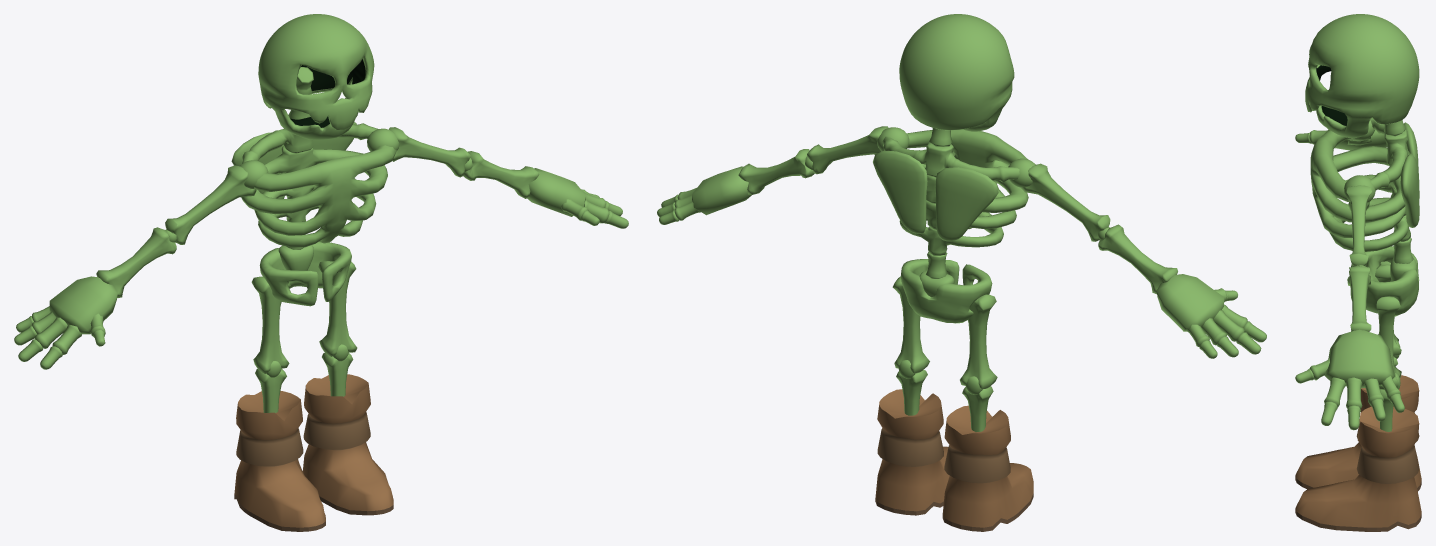
File: ENEMY 2 (final).fbx
The picture shows the model from 3 angles, left to right: view 1: azimuth 30°, elevation 25°; view 2: azimuth 150°, elevation 25°; view 3: azimuth 270°, elevation 25°; orthographic projection.
Visible parts, largest first — view 1: polySurface80; view 2: polySurface80; view 3: polySurface80.
Boxes of the visible parts, x1,y1,x2,y2 form: polySurface80: [14, 14, 628, 531]; polySurface80: [657, 14, 1266, 531]; polySurface80: [1295, 14, 1421, 531].
Size of the model in its own units: 28.13 by 21.53 by 5.13.
